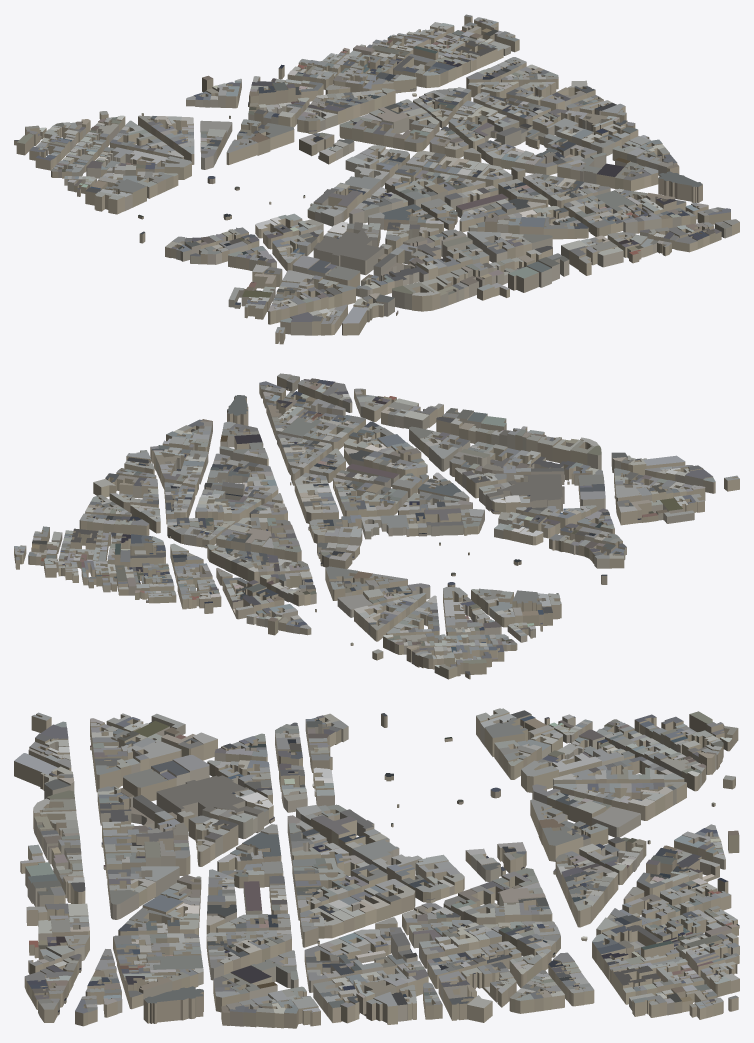
3 views of the same model, one above another, from view 1: azimuth 30°, elevation 25°; view 2: azimuth 150°, elevation 25°; view 3: azimuth 270°, elevation 25° (orthographic). The views are drawn at different scales.
Parts seen in each view (by area): view 1: tuile; view 2: tuile; view 3: tuile.
Boxes of the visible parts, x1,y1,x2,y2 form: tuile: (14,14,739,344); tuile: (14,373,739,679); tuile: (14,708,739,1028).
Bounding box in the file's own units: 1016 × 51.13 × 1027.
